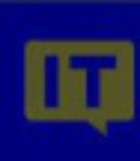ImgButton: (1, 1, 139, 160)
